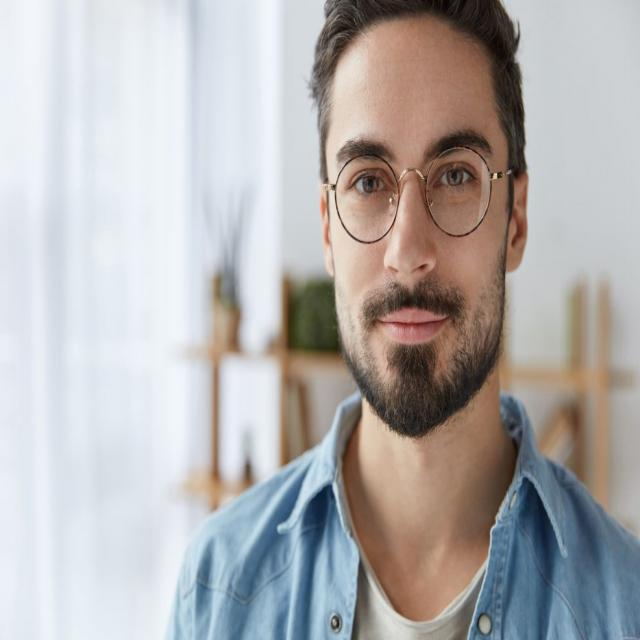Glasses: (326, 140, 512, 251)
